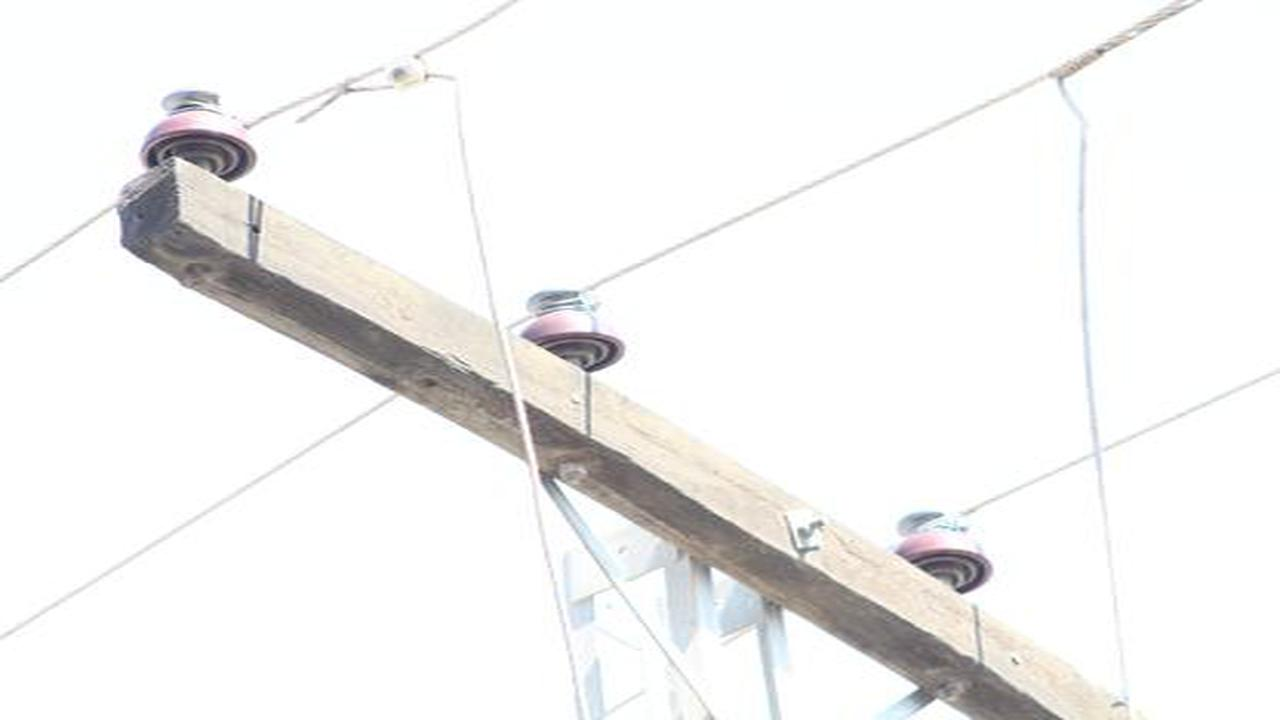insulator_pin: (138, 85, 260, 183), (516, 282, 635, 370), (890, 502, 992, 597)
